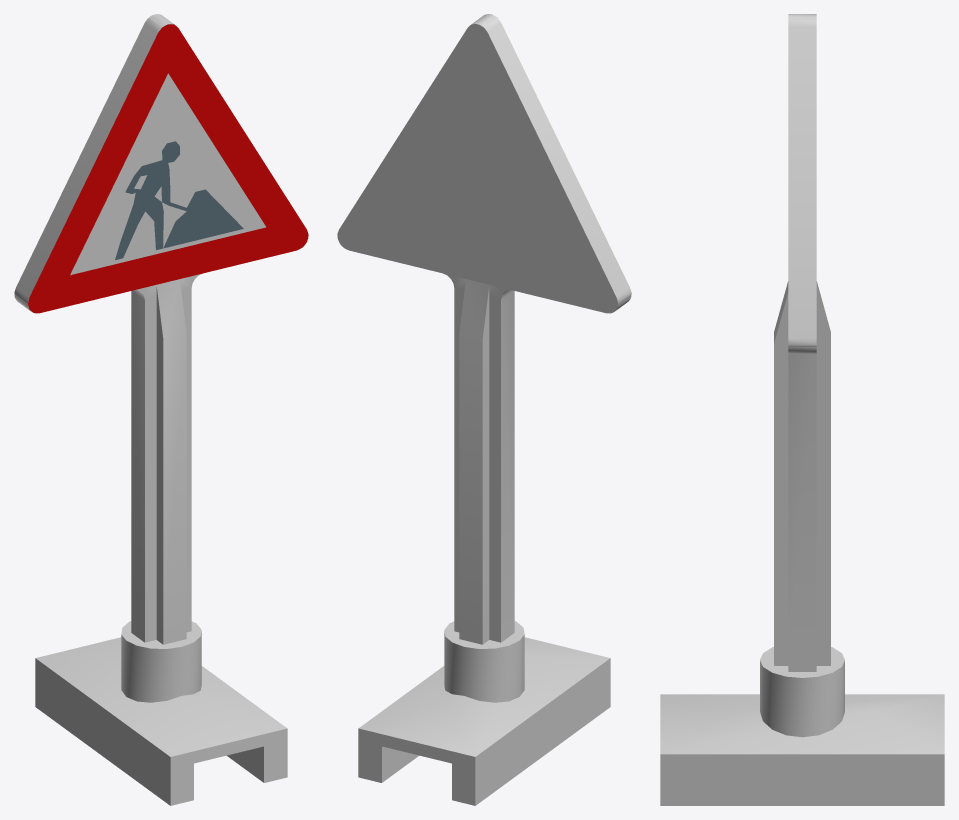
Rendered from constructionSign 1.fbx.
The picture shows the model from 3 angles, left to right: view 1: azimuth 30°, elevation 25°; view 2: azimuth 150°, elevation 25°; view 3: azimuth 270°, elevation 25°; orthographic projection. The views are drawn at different scales.
Parts seen in each view (by area): view 1: Piece609; view 2: Piece609; view 3: Piece609.
Part boxes in pixels (x1=…): Piece609: x1=14, y1=14, x2=308, y2=805; Piece609: x1=337, y1=14, x2=631, y2=805; Piece609: x1=660, y1=14, x2=944, y2=805.
Bounding box in the file's own units: 480 × 1181 × 400.
